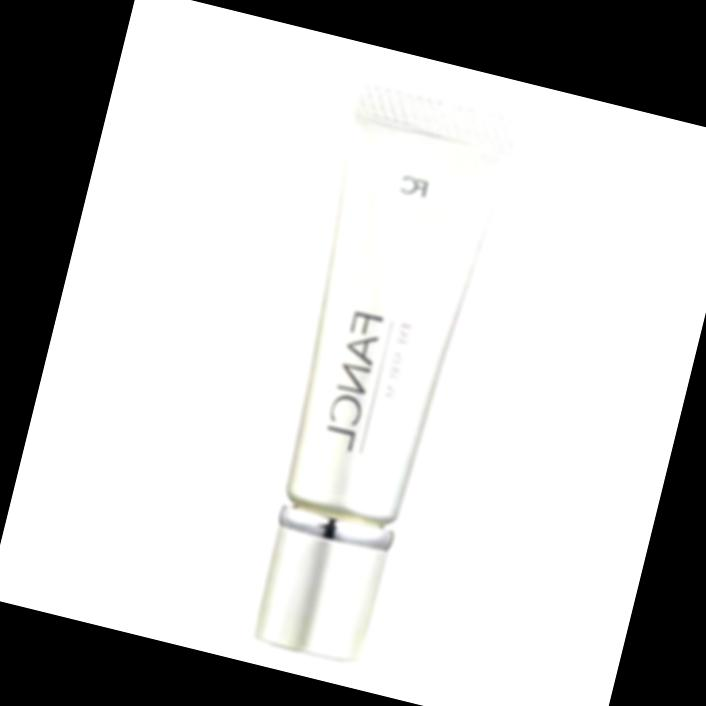cosmetic: (233, 80, 519, 673)
